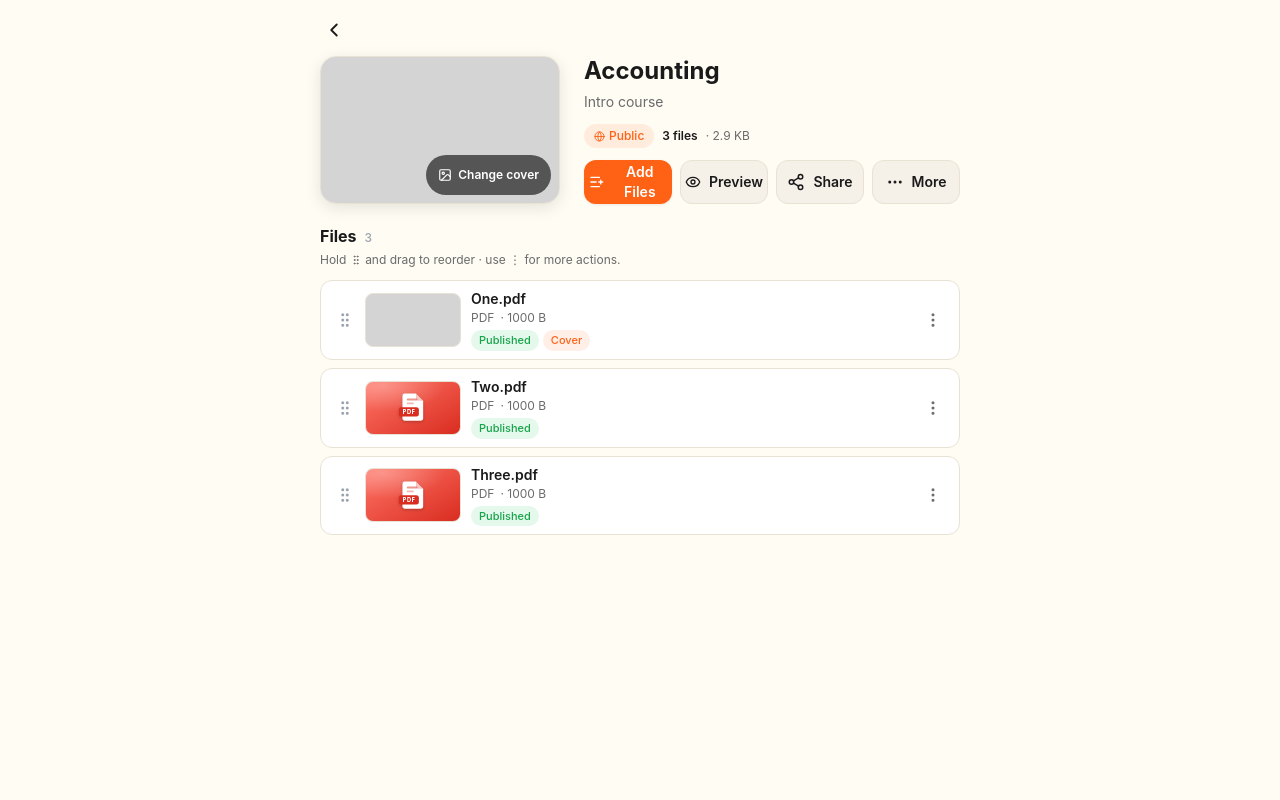
Creator playlist page — file actions › confirming removes ONLY the membership (never /api/files) and updates rows and count at once
This screenshot has width=1280, height=800.
Click the button with test id "action-menu-button" at [933, 408], box top-left (911, 386), bottom-right (955, 430)
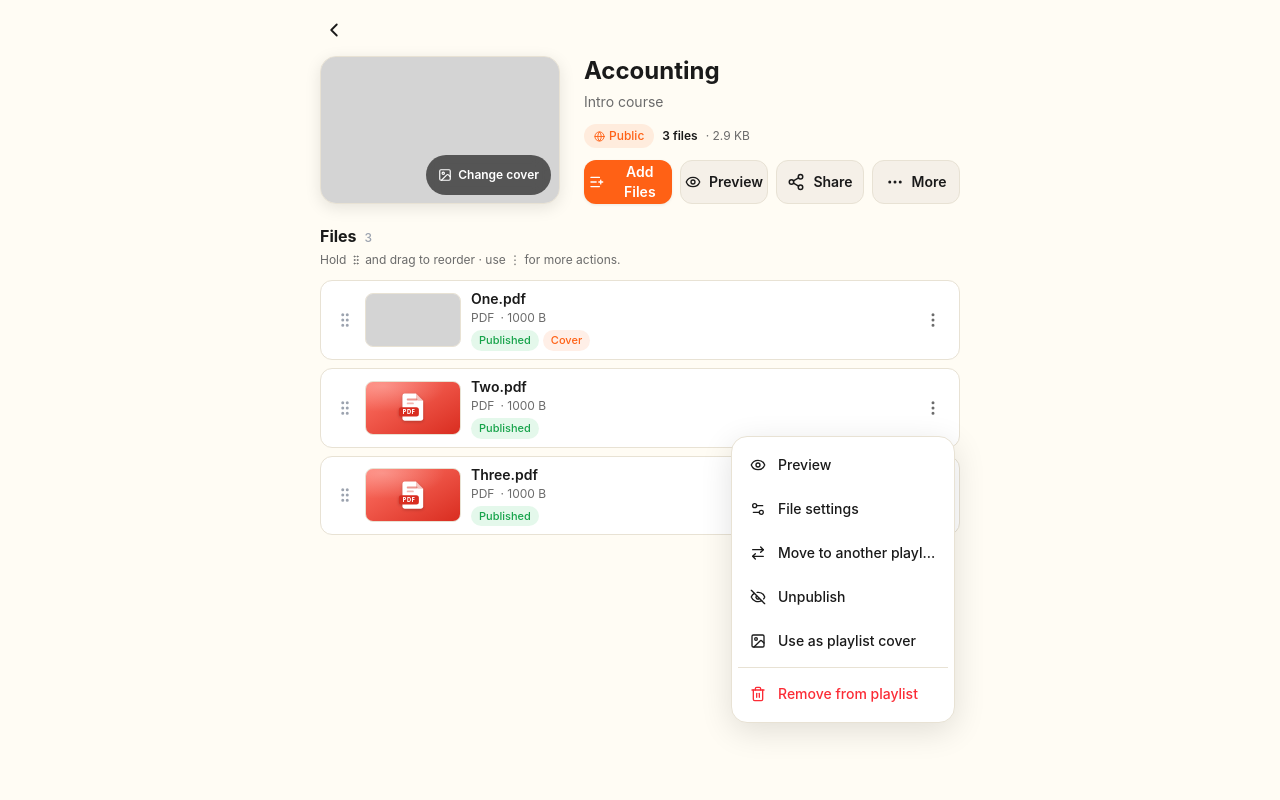
Click the menu item with test id "menu-item-remove" at [843, 694], box top-left (738, 672), bottom-right (948, 716)
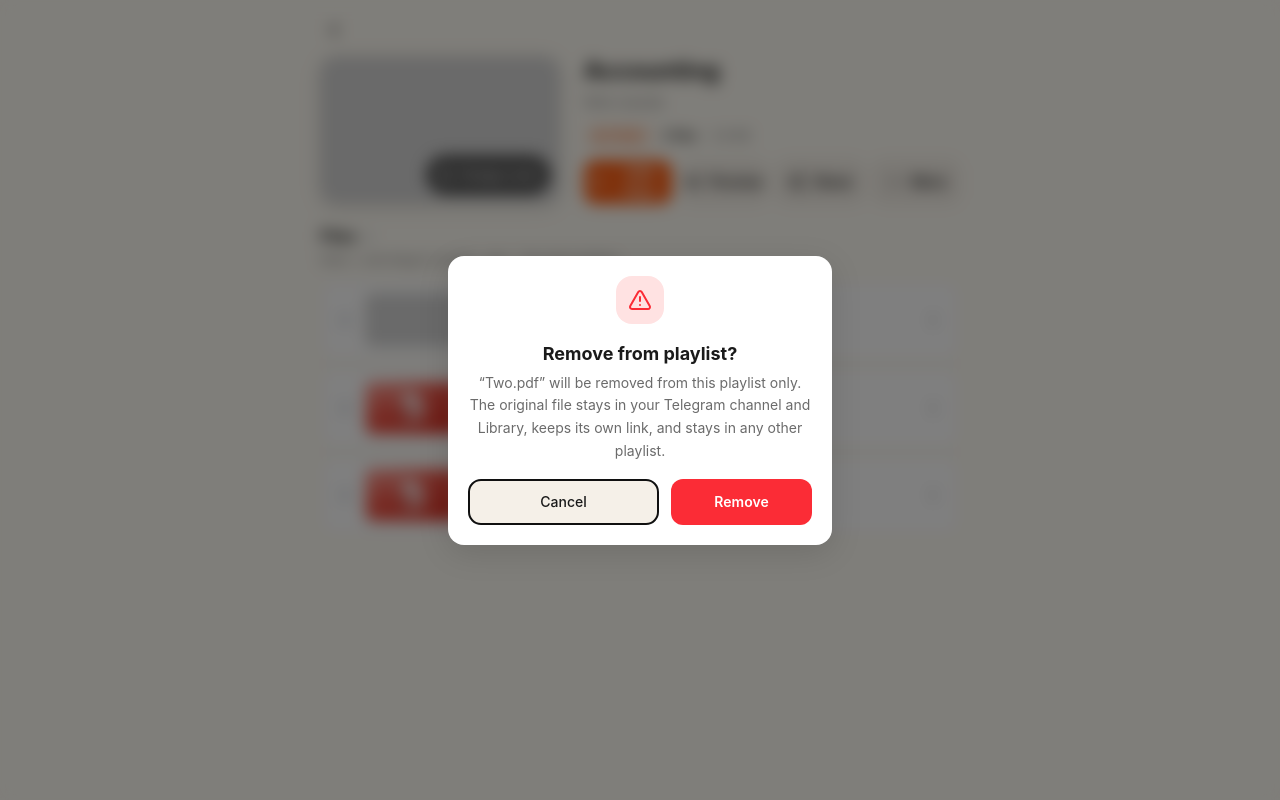
Click the button with test id "confirm-action" at [742, 502], box top-left (671, 478), bottom-right (812, 524)
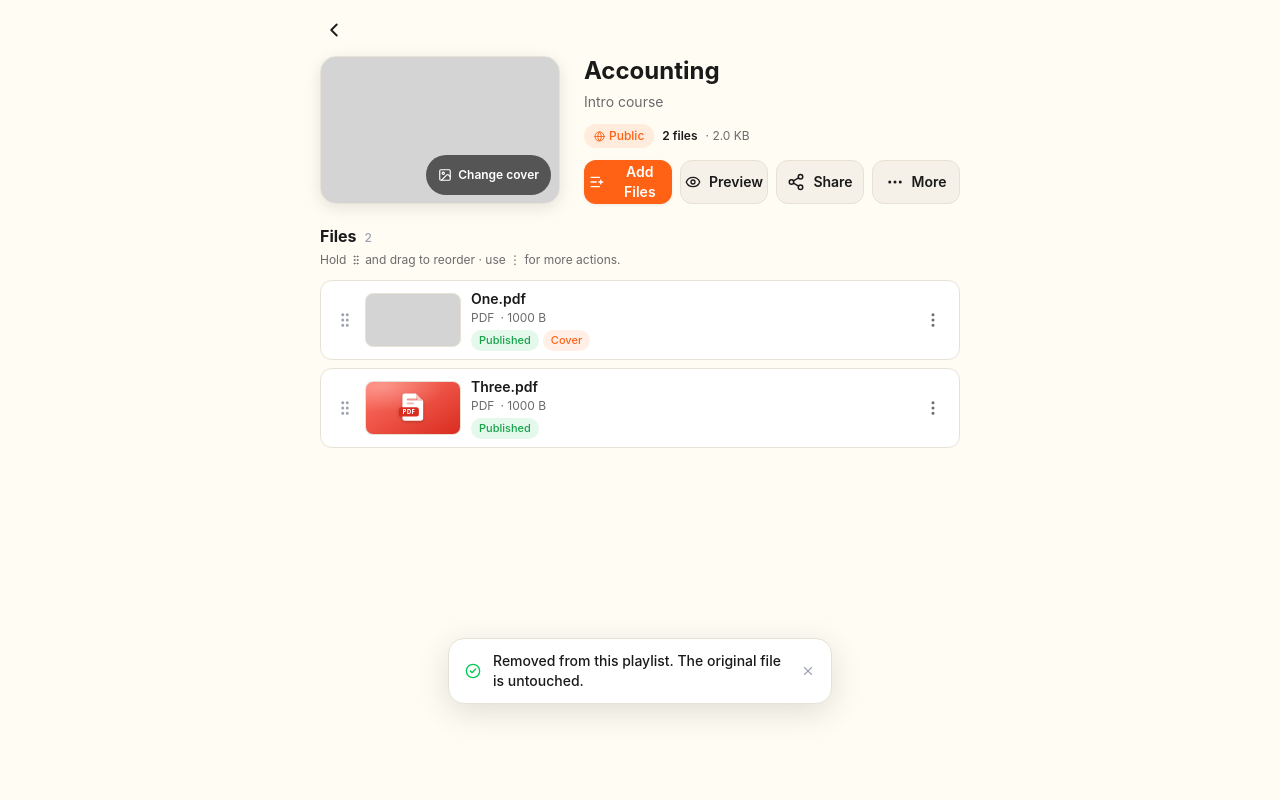
Result: the text with test id "playlist-count" reads "2 files" at top-left (662, 128), bottom-right (698, 144)
Result: the text "original file is untouched" is shown at top-left (493, 652), bottom-right (781, 689)
